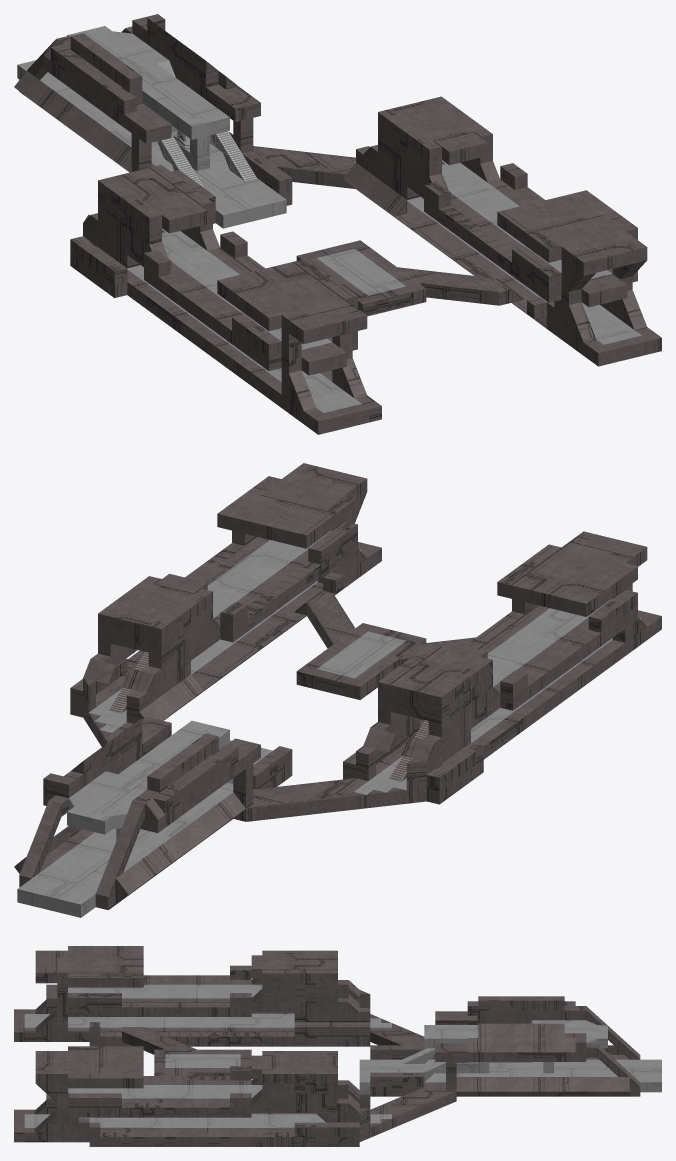
The model's file is Large_Grid_5713.obj.
3 renders of one model, top to bottom at view 1: azimuth 30°, elevation 25°; view 2: azimuth 150°, elevation 25°; view 3: azimuth 270°, elevation 25°, orthographic. The views are drawn at different scales.
Visible parts, largest first — view 1: Large_Grid_5713_part2, Large_Grid_5713_part1, Large_Grid_5713_part5, Large_Grid_5713_part6, Large_Grid_5713_part9; view 2: Large_Grid_5713_part2, Large_Grid_5713_part1, Large_Grid_5713_part5, Large_Grid_5713_part6, Large_Grid_5713_part8; view 3: Large_Grid_5713_part2, Large_Grid_5713_part1, Large_Grid_5713_part5, Large_Grid_5713_part6, Large_Grid_5713_part9.
Boxes of the visible parts, x1,y1,x2,y2 form: Large_Grid_5713_part2: [19, 14, 661, 434]; Large_Grid_5713_part1: [17, 26, 641, 412]; Large_Grid_5713_part5: [14, 39, 646, 410]; Large_Grid_5713_part6: [19, 29, 634, 410]; Large_Grid_5713_part9: [159, 131, 256, 188]; Large_Grid_5713_part2: [19, 463, 661, 910]; Large_Grid_5713_part1: [17, 531, 641, 917]; Large_Grid_5713_part5: [19, 591, 433, 901]; Large_Grid_5713_part6: [14, 492, 646, 904]; Large_Grid_5713_part8: [109, 652, 428, 781]; Large_Grid_5713_part2: [14, 946, 640, 1146]; Large_Grid_5713_part1: [24, 984, 661, 1127]; Large_Grid_5713_part5: [35, 978, 640, 1141]; Large_Grid_5713_part6: [36, 978, 639, 1132]; Large_Grid_5713_part9: [402, 1048, 445, 1072].
Size of the model in its own units: 72.5 by 17.5 by 150.
Materials: 9 (9 with a texture image).
